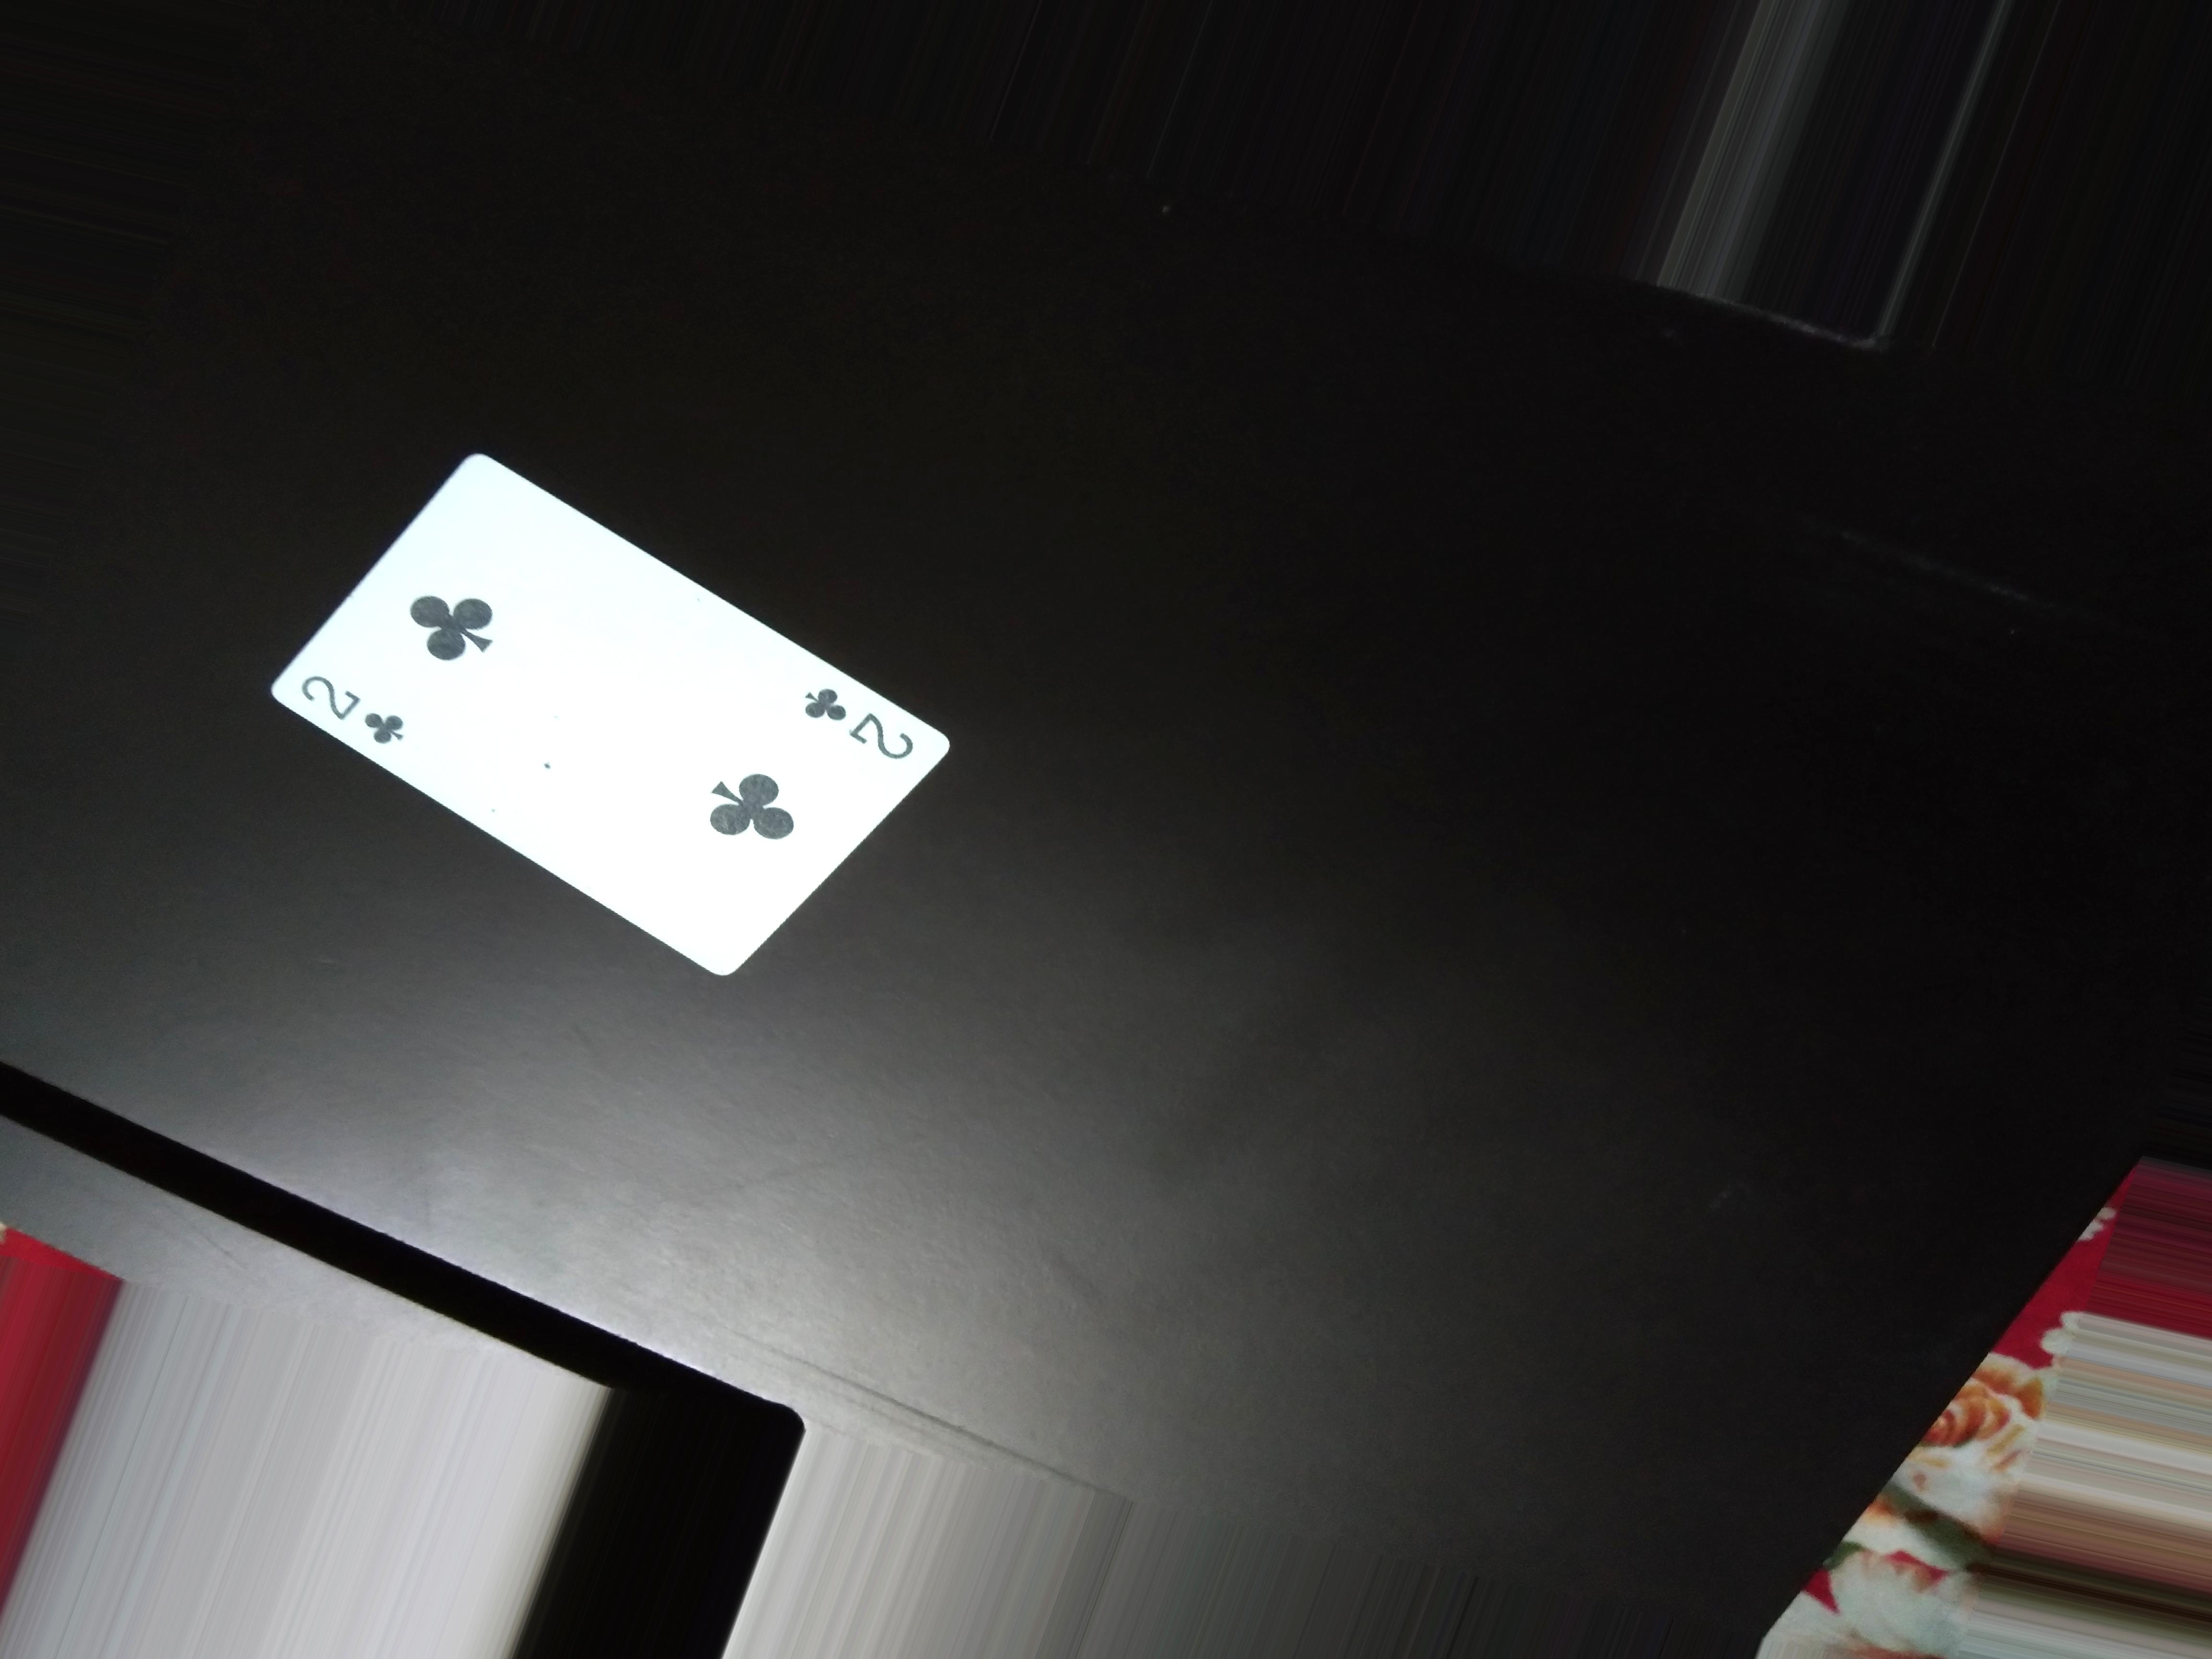2C: (300, 660, 409, 756)
